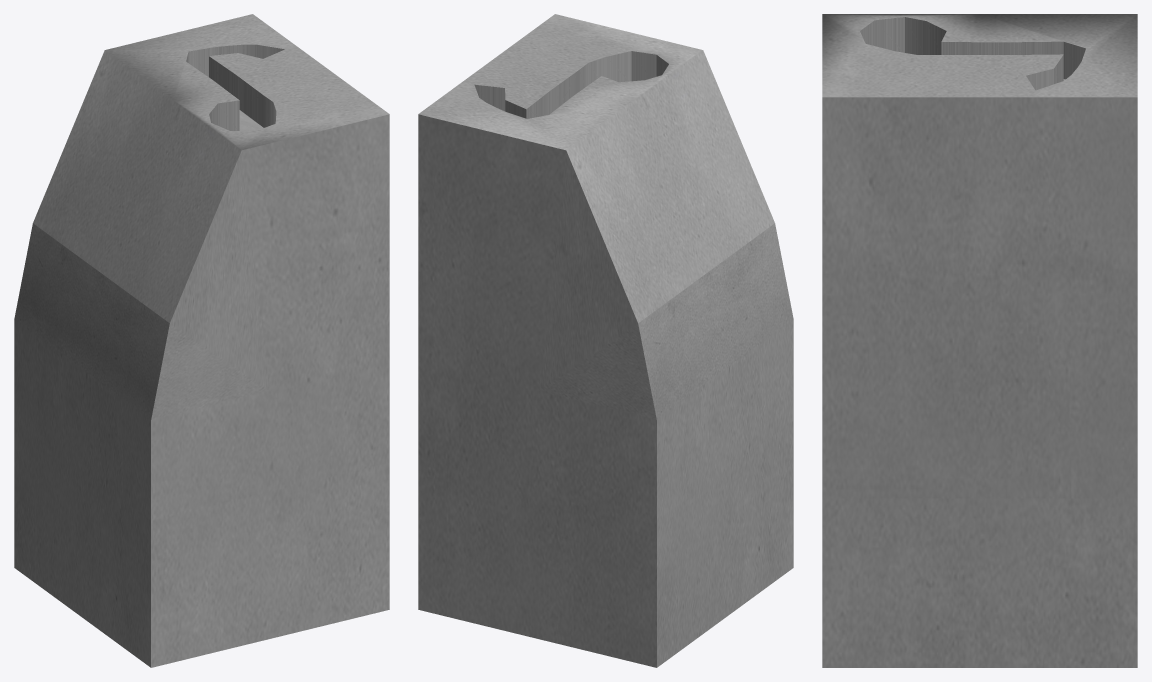
The model's file is Obstacle2.fbx.
3 renders of one model, left to right at view 1: azimuth 30°, elevation 25°; view 2: azimuth 150°, elevation 25°; view 3: azimuth 270°, elevation 25°, orthographic. The views are drawn at different scales.
Visible parts, largest first — view 1: Object7; view 2: Object7; view 3: Object7.
Part boxes in pixels (bbox=[...]): Object7: bbox=[14, 14, 389, 667]; Object7: bbox=[418, 14, 793, 667]; Object7: bbox=[822, 14, 1137, 667].
Size of the model in its own units: 3.77 by 7.48 by 3.75.
Materials: 1 (1 with a texture image).
